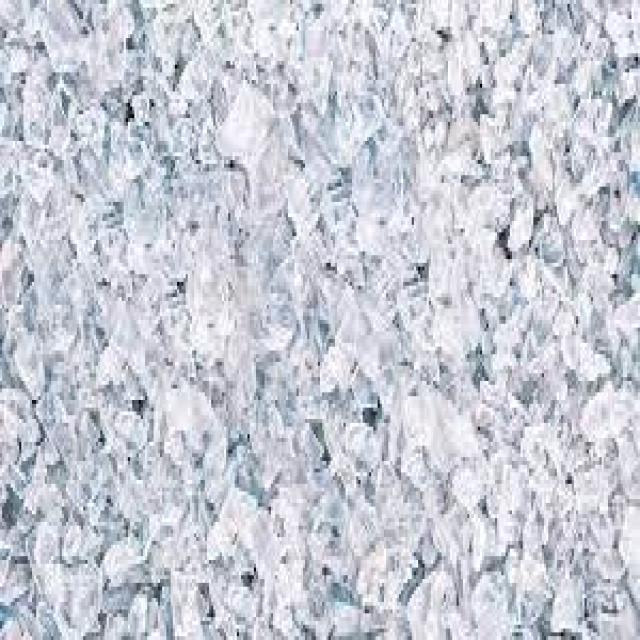glass: (0, 0, 638, 636), (0, 0, 122, 636), (476, 0, 638, 472), (182, 164, 391, 526), (43, 19, 262, 297), (250, 374, 467, 637), (312, 164, 504, 461), (416, 0, 614, 217), (467, 385, 638, 636), (260, 73, 493, 256), (286, 0, 461, 198), (66, 282, 256, 461), (107, 305, 248, 545), (115, 411, 248, 606), (546, 46, 638, 297), (79, 602, 420, 636)
